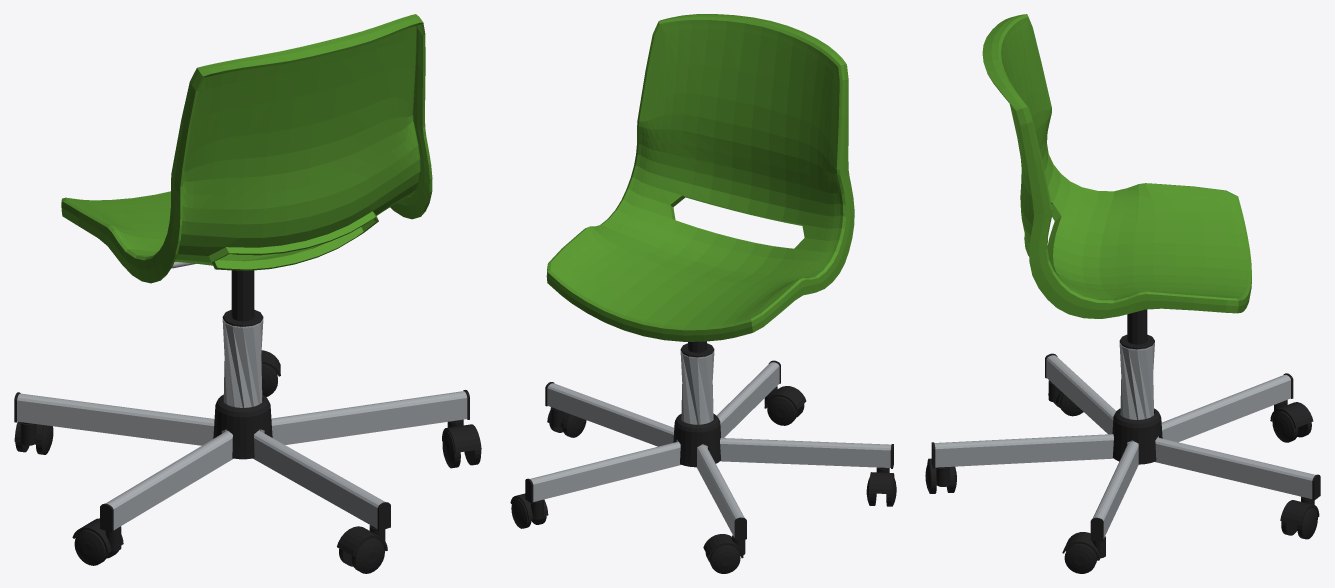
3 views of the same model, side by side, from view 1: azimuth 30°, elevation 25°; view 2: azimuth 150°, elevation 25°; view 3: azimuth 270°, elevation 25° (orthographic). The views are drawn at different scales.
Parts seen in each view (by area): view 1: Mesh2 Group2 SNILLE_IKEA1 Model, Mesh8 Group6 SNILLE_IKEA1 Model, Mesh7 Group5 SNILLE_IKEA1 Model, Mesh1 Group1 SNILLE_IKEA1 Model, Mesh3 Group3 SNILLE_IKEA1 Model, Mesh20 ROULETTE4 SNILLE_IKEA1 Model, Mesh11 ROULETTE1 SNILLE_IKEA1 Model, Mesh12 ROULETTE2 SNILLE_IKEA1 Model, Mesh18 ROULETTE4 SNILLE_IKEA1 Model, Mesh9 ROULETTE1 SNILLE_IKEA1 Model, Mesh21 ROULETTE5 SNILLE_IKEA1 Model; view 2: Mesh2 Group2 SNILLE_IKEA1 Model, Mesh8 Group6 SNILLE_IKEA1 Model, Mesh7 Group5 SNILLE_IKEA1 Model, Mesh1 Group1 SNILLE_IKEA1 Model, Mesh23 ROULETTE5 SNILLE_IKEA1 Model, Mesh19 ROULETTE4 SNILLE_IKEA1 Model, Mesh9 ROULETTE1 SNILLE_IKEA1 Model, Mesh21 ROULETTE5 SNILLE_IKEA1 Model, Mesh18 ROULETTE4 SNILLE_IKEA1 Model; view 3: Mesh2 Group2 SNILLE_IKEA1 Model, Mesh8 Group6 SNILLE_IKEA1 Model, Mesh7 Group5 SNILLE_IKEA1 Model, Mesh1 Group1 SNILLE_IKEA1 Model, Mesh3 Group3 SNILLE_IKEA1 Model, Mesh14 ROULETTE2 SNILLE_IKEA1 Model, Mesh15 ROULETTE3 SNILLE_IKEA1 Model, Mesh21 ROULETTE5 SNILLE_IKEA1 Model, Mesh22 ROULETTE5 SNILLE_IKEA1 Model, Mesh12 ROULETTE2 SNILLE_IKEA1 Model, Mesh18 ROULETTE4 SNILLE_IKEA1 Model.
Boxes of the visible parts, x1=… form: Mesh2 Group2 SNILLE_IKEA1 Model: x1=61, y1=14, x2=432, y2=283; Mesh8 Group6 SNILLE_IKEA1 Model: x1=14, y1=390, x2=469, y2=532; Mesh7 Group5 SNILLE_IKEA1 Model: x1=222, y1=319, x2=263, y2=407; Mesh1 Group1 SNILLE_IKEA1 Model: x1=213, y1=395, x2=272, y2=459; Mesh3 Group3 SNILLE_IKEA1 Model: x1=222, y1=270, x2=263, y2=326; Mesh20 ROULETTE4 SNILLE_IKEA1 Model: x1=351, y1=537, x2=384, y2=573; Mesh11 ROULETTE1 SNILLE_IKEA1 Model: x1=74, y1=529, x2=107, y2=565; Mesh12 ROULETTE2 SNILLE_IKEA1 Model: x1=442, y1=419, x2=481, y2=452; Mesh18 ROULETTE4 SNILLE_IKEA1 Model: x1=337, y1=525, x2=387, y2=556; Mesh9 ROULETTE1 SNILLE_IKEA1 Model: x1=72, y1=518, x2=123, y2=553; Mesh21 ROULETTE5 SNILLE_IKEA1 Model: x1=14, y1=421, x2=44, y2=445; Mesh2 Group2 SNILLE_IKEA1 Model: x1=546, y1=14, x2=854, y2=341; Mesh8 Group6 SNILLE_IKEA1 Model: x1=525, y1=360, x2=893, y2=540; Mesh7 Group5 SNILLE_IKEA1 Model: x1=680, y1=351, x2=714, y2=424; Mesh1 Group1 SNILLE_IKEA1 Model: x1=673, y1=413, x2=720, y2=467; Mesh23 ROULETTE5 SNILLE_IKEA1 Model: x1=709, y1=545, x2=740, y2=573; Mesh19 ROULETTE4 SNILLE_IKEA1 Model: x1=767, y1=396, x2=797, y2=425; Mesh9 ROULETTE1 SNILLE_IKEA1 Model: x1=869, y1=467, x2=894, y2=494; Mesh21 ROULETTE5 SNILLE_IKEA1 Model: x1=703, y1=534, x2=745, y2=558; Mesh18 ROULETTE4 SNILLE_IKEA1 Model: x1=764, y1=386, x2=806, y2=410; Mesh2 Group2 SNILLE_IKEA1 Model: x1=982, y1=14, x2=1251, y2=318; Mesh8 Group6 SNILLE_IKEA1 Model: x1=931, y1=353, x2=1320, y2=541; Mesh7 Group5 SNILLE_IKEA1 Model: x1=1119, y1=342, x2=1154, y2=419; Mesh1 Group1 SNILLE_IKEA1 Model: x1=1112, y1=408, x2=1162, y2=464; Mesh3 Group3 SNILLE_IKEA1 Model: x1=1119, y1=309, x2=1154, y2=349; Mesh14 ROULETTE2 SNILLE_IKEA1 Model: x1=1064, y1=543, x2=1096, y2=573; Mesh15 ROULETTE3 SNILLE_IKEA1 Model: x1=1280, y1=496, x2=1319, y2=525; Mesh21 ROULETTE5 SNILLE_IKEA1 Model: x1=1270, y1=400, x2=1313, y2=428; Mesh22 ROULETTE5 SNILLE_IKEA1 Model: x1=1272, y1=411, x2=1298, y2=442; Mesh12 ROULETTE2 SNILLE_IKEA1 Model: x1=1062, y1=532, x2=1105, y2=560; Mesh18 ROULETTE4 SNILLE_IKEA1 Model: x1=927, y1=458, x2=955, y2=486.
Size of the model in its own units: 0.5973 by 0.7102 by 0.5791.
